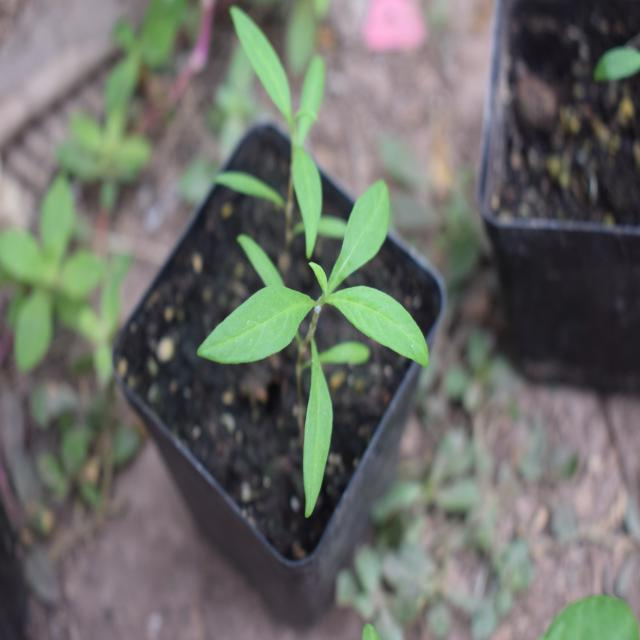white_smart_weed: (216, 199, 473, 563)
